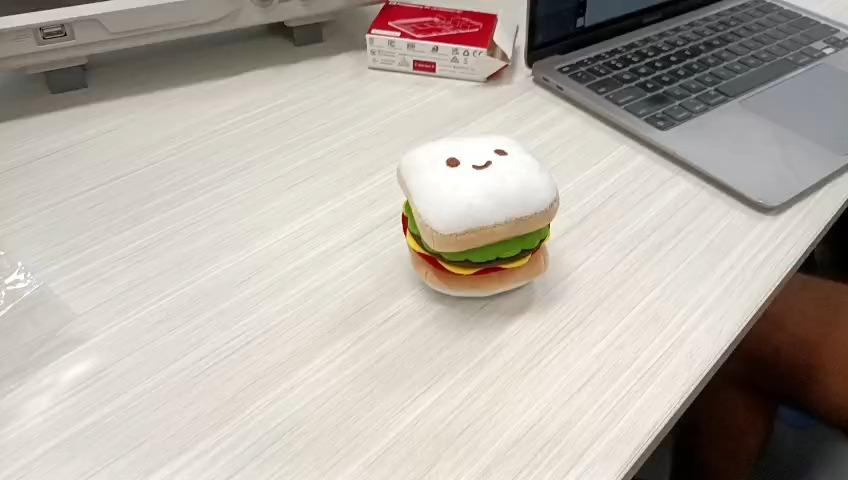objects: (396, 132, 564, 299)
